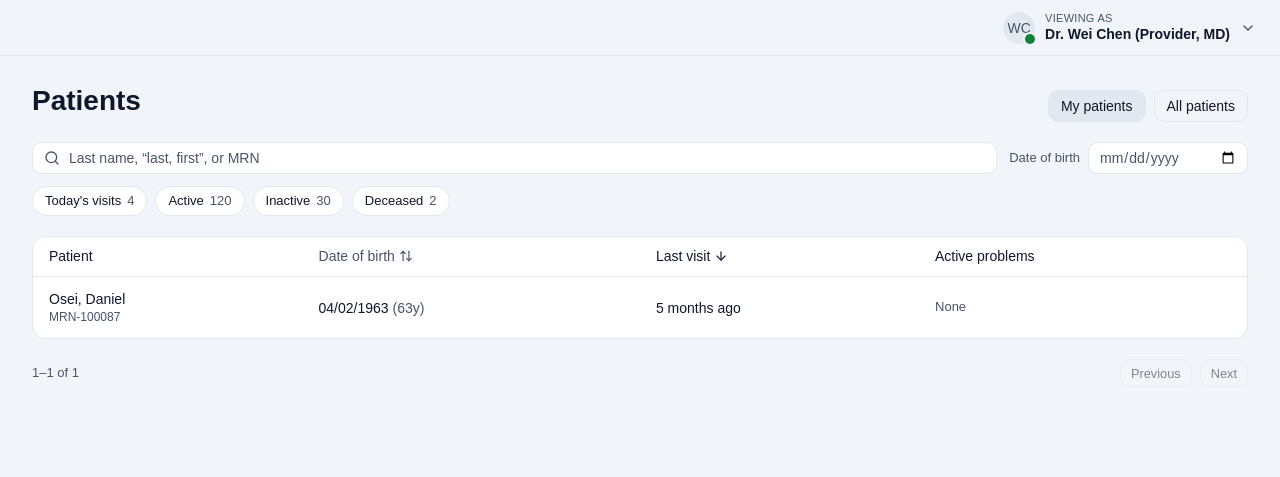
Test: search › explains that one word searches last names, so a first name alone finds nothing
Type "daniel" into the search field named "Search patients".
click(515, 158); type("daniel")  # box [32,142,997,174]
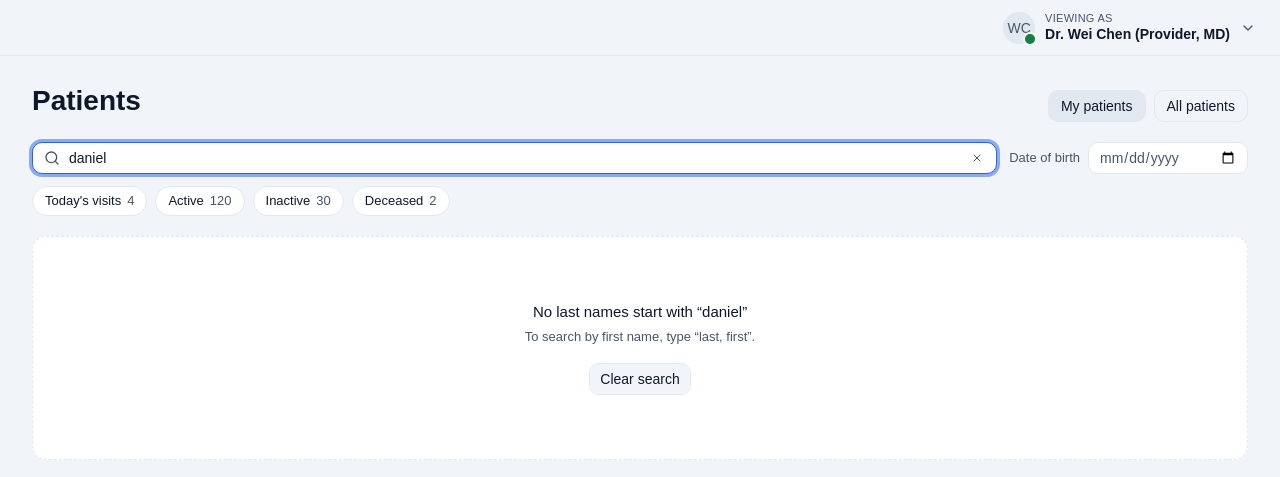
Now the text "No last names start with “daniel”" is shown, box [533,302,747,320]
Now the text "To search by first name, type “last, first”." is shown, box [525,329,755,344]
